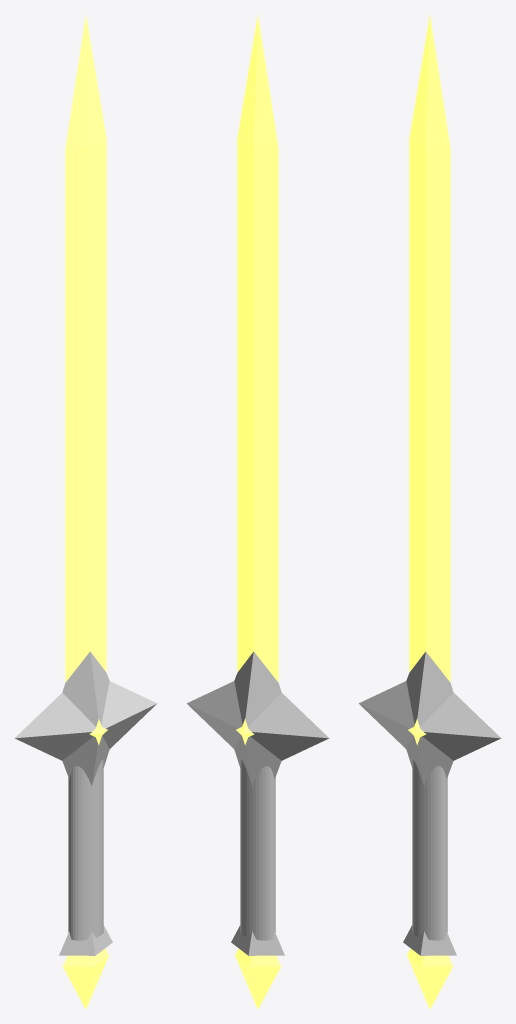
File: Sword.fbx
3 views of the same model, side by side, from view 1: azimuth 30°, elevation 25°; view 2: azimuth 150°, elevation 25°; view 3: azimuth 330°, elevation 25° (orthographic).
Visible parts, largest first — view 1: End, Handle; view 2: End, Handle; view 3: End, Handle.
Boxes of the visible parts, box(x1,y1,x2,y2) form: End: box(63, 15, 108, 1009); Handle: box(14, 651, 156, 955); End: box(235, 15, 280, 1009); Handle: box(187, 651, 329, 955); End: box(407, 15, 452, 1009); Handle: box(359, 651, 501, 955).
Size of the model in its own units: 1.28 by 0.4556 by 8.5.
